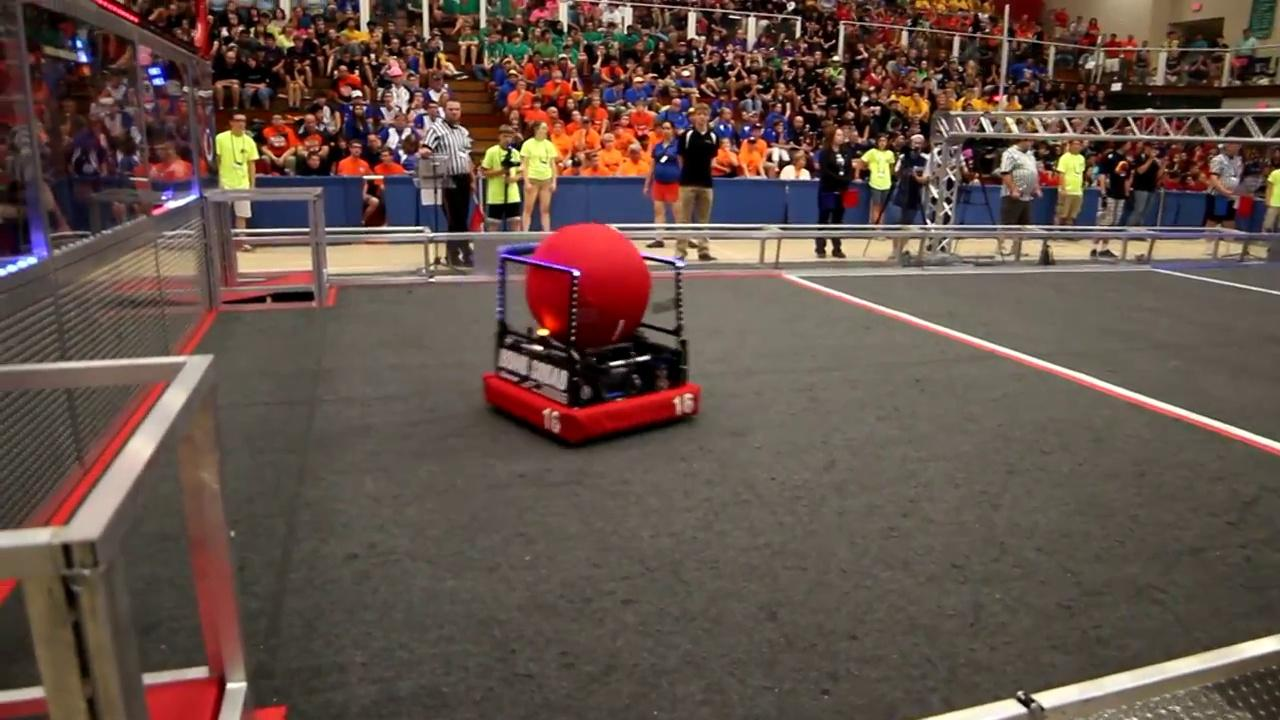robot: (478, 223, 705, 442)
